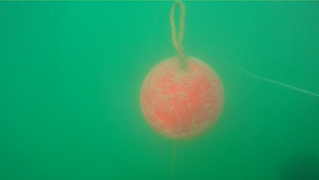buoy: (139, 55, 224, 141)
